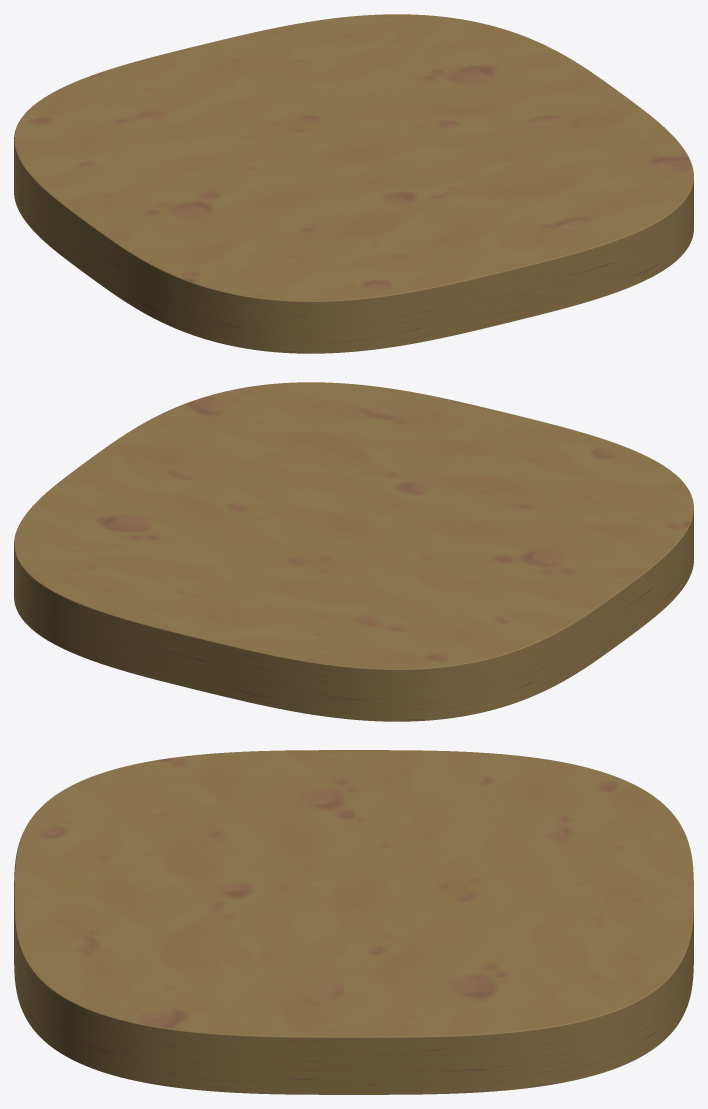
Rendered from starter-13.glb.
3 views of the same model, one above another, from view 1: azimuth 30°, elevation 25°; view 2: azimuth 150°, elevation 25°; view 3: azimuth 270°, elevation 25° (orthographic). The views are drawn at different scales.
Visible parts, largest first — view 1: geometry_0; view 2: geometry_0; view 3: geometry_0.
Part boxes in pixels (x1,y1,x2,y2): geometry_0: (14,14,693,353); geometry_0: (14,382,693,721); geometry_0: (14,750,693,1094).
Bounding box in the file's own units: 63.98 × 6 × 63.98.
1 material, 1 textured.
